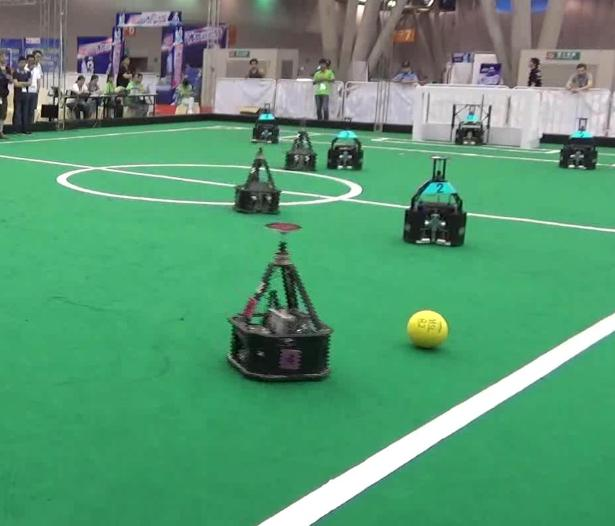robot: (225, 216, 333, 383), (398, 145, 470, 250)
